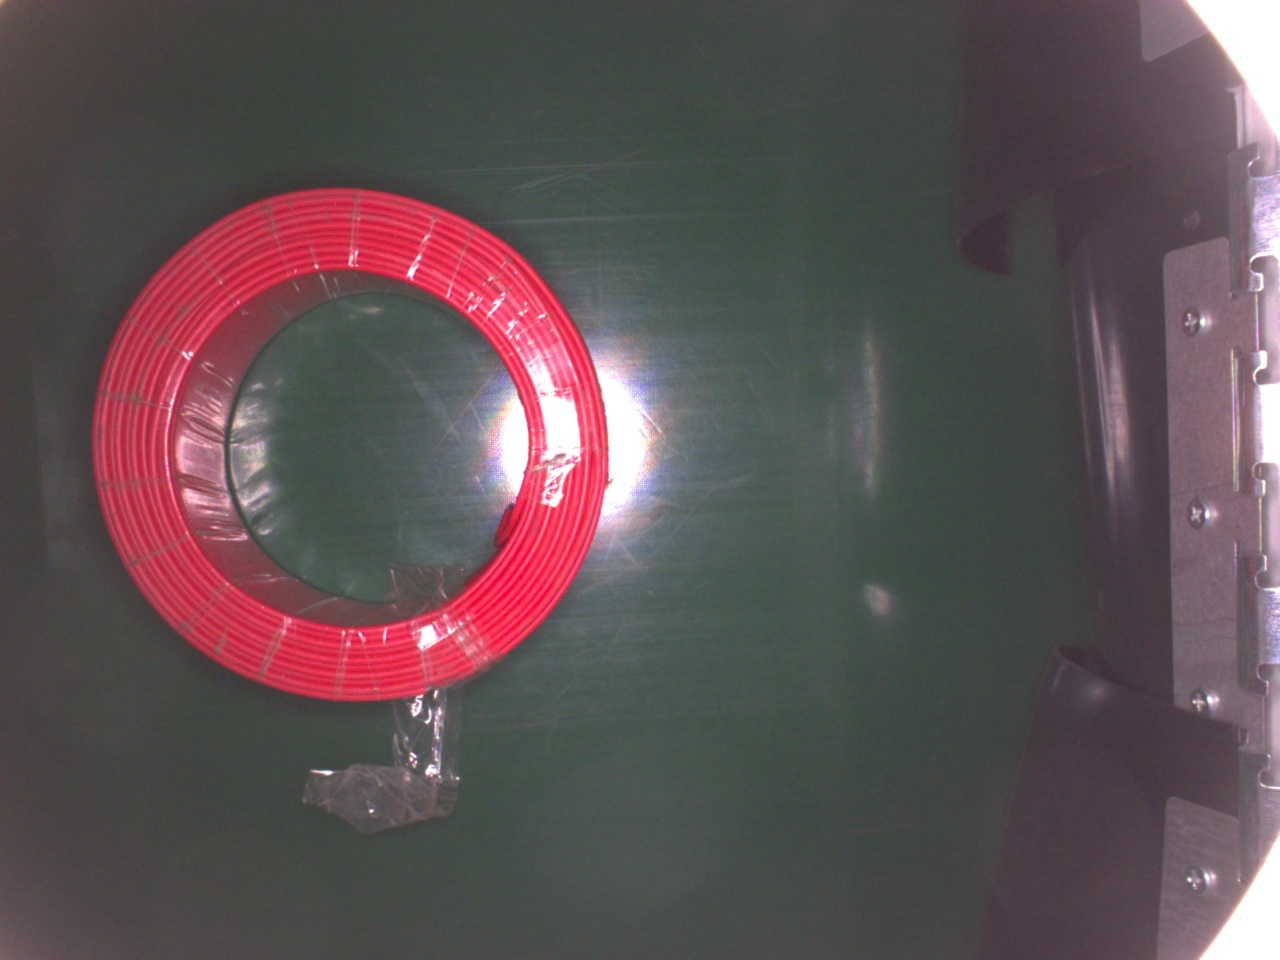red: (90, 181, 612, 706)
